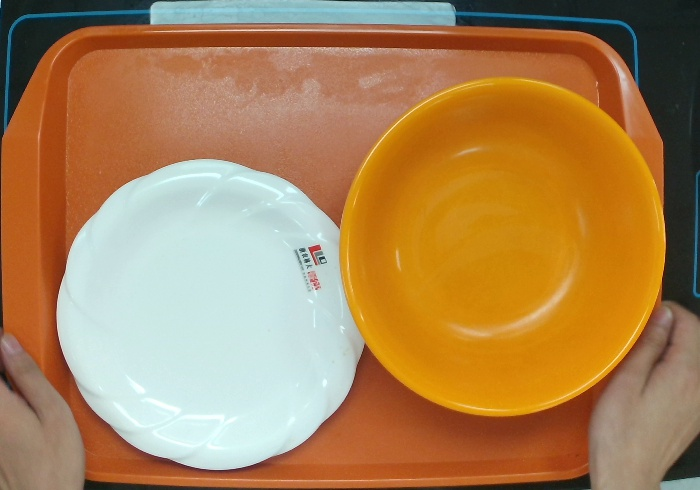ZNLD-Hua_Bian_Wan: (54, 155, 367, 470)
ZNLD-Ju_Se_Tang_Wan: (337, 74, 670, 417)
